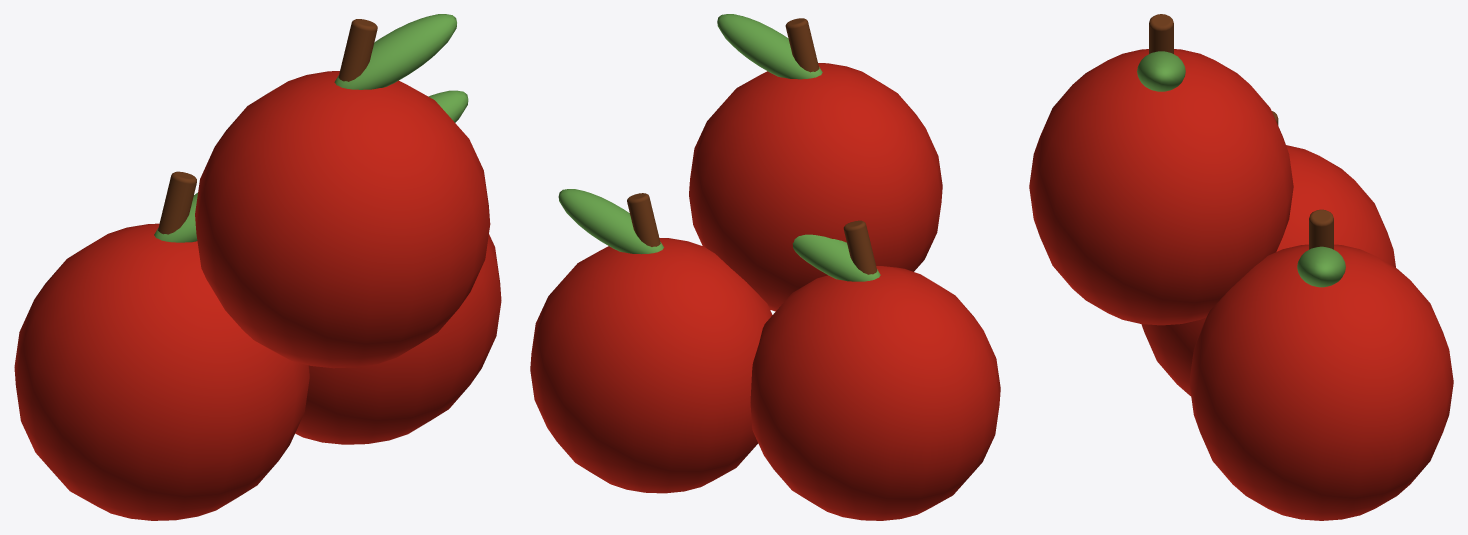
Rendered from apple_cluster.glb.
3 renders of one model, left to right at view 1: azimuth 30°, elevation 25°; view 2: azimuth 150°, elevation 25°; view 3: azimuth 270°, elevation 25°, orthographic. The views are drawn at different scales.
Parts seen in each view (by area): view 1: apple.005, apple.003, apple.004, apple_leaf.005, apple_stem.003, apple_stem.005, apple_leaf.003, apple_leaf.004; view 2: apple.003, apple.004, apple.005, apple_leaf.005, apple_leaf.004, apple_leaf.003, apple_stem.003, apple_stem.005, apple_stem.004; view 3: apple.004, apple.005, apple.003, apple_leaf.004, apple_leaf.005, apple_stem.005, apple_stem.004.
Part boxes in pixels (box(x1,y1,x2,y2)): apple.005: box(195, 71, 490, 368); apple.003: box(14, 223, 309, 520); apple.004: box(295, 234, 501, 444); apple_leaf.005: box(334, 14, 456, 89); apple_stem.003: box(158, 171, 196, 234); apple_stem.005: box(338, 19, 377, 81); apple_leaf.003: box(154, 192, 197, 242); apple_leaf.004: box(428, 90, 468, 122); apple.003: box(750, 266, 1000, 520); apple.004: box(530, 238, 772, 493); apple.005: box(689, 63, 942, 311); apple_leaf.005: box(717, 14, 822, 79); apple_leaf.004: box(558, 189, 663, 254); apple_leaf.003: box(792, 234, 880, 281); apple_stem.003: box(843, 220, 877, 274); apple_stem.005: box(785, 18, 819, 72); apple_stem.004: box(627, 193, 660, 246); apple.004: box(1189, 244, 1453, 520); apple.005: box(1029, 49, 1293, 325); apple.003: box(1141, 145, 1395, 396); apple_leaf.004: box(1297, 246, 1345, 287); apple_leaf.005: box(1137, 51, 1185, 91); apple_stem.005: box(1149, 14, 1173, 53); apple_stem.004: box(1309, 209, 1333, 249).
Bounding box in the file's own units: 0.74 × 0.7233 × 0.61.
